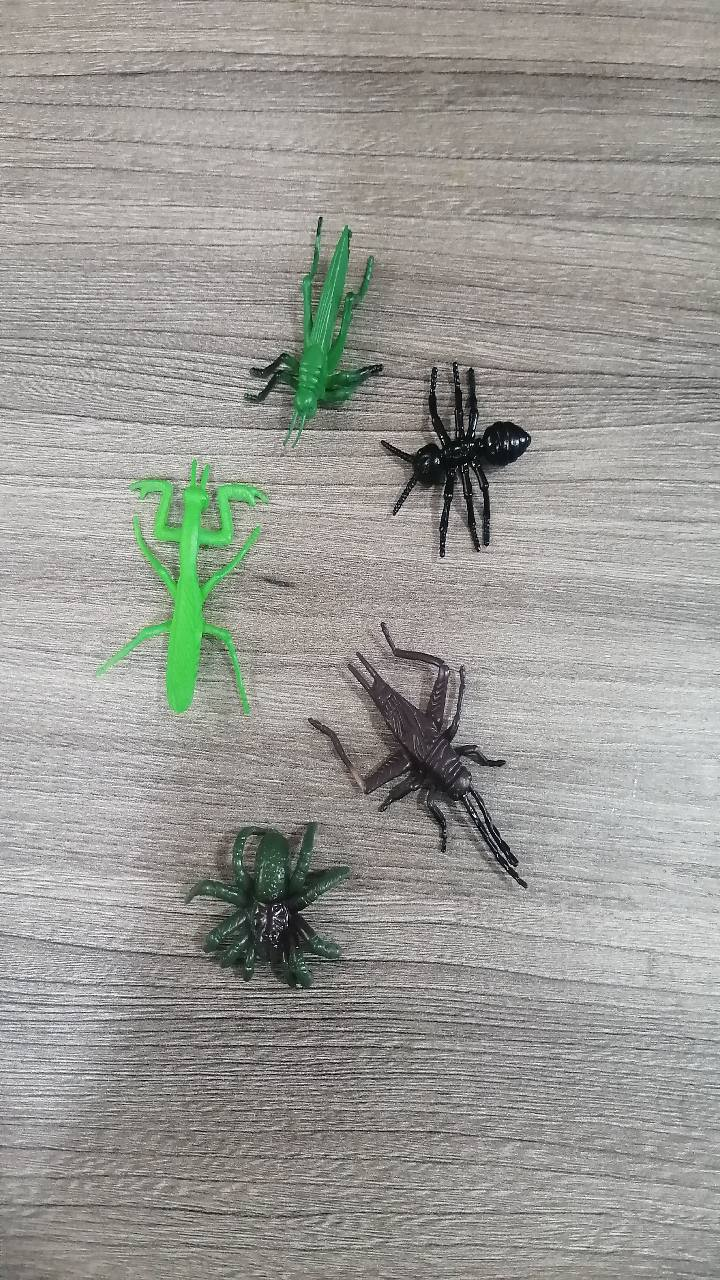intruso: (288, 577, 543, 926), (91, 419, 303, 737), (143, 771, 378, 1011), (217, 177, 381, 455), (371, 340, 554, 571)
